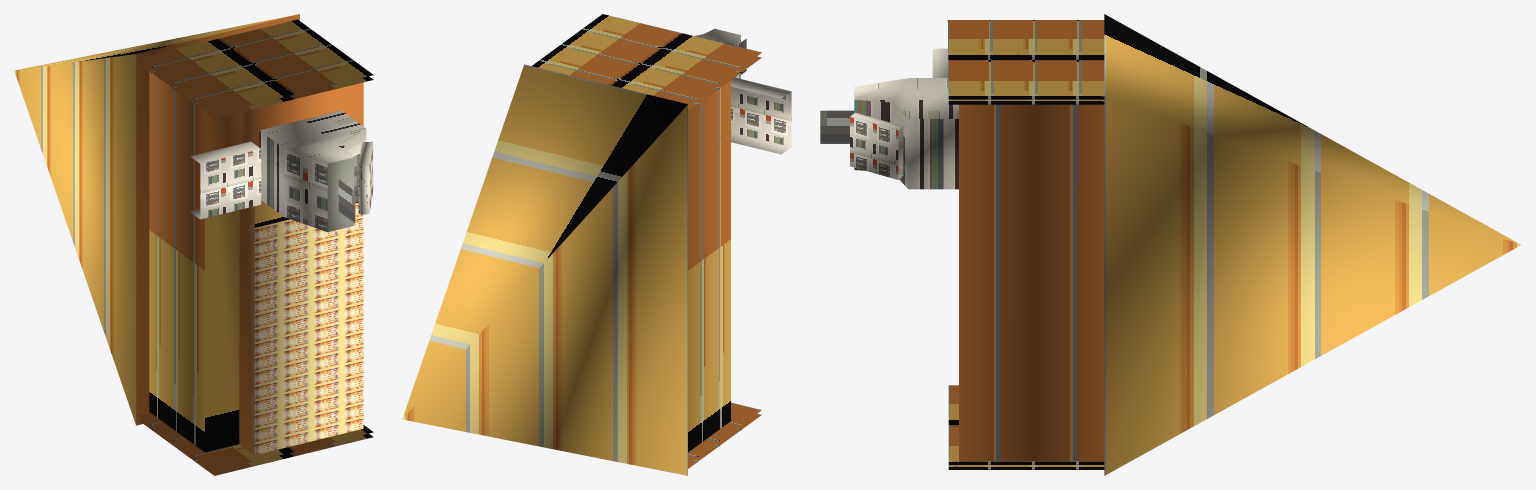
3 views of the same model, side by side, from view 1: azimuth 30°, elevation 25°; view 2: azimuth 150°, elevation 25°; view 3: azimuth 270°, elevation 25° (orthographic). The views are drawn at different scales.
Parts seen in each view (by area): view 1: 3790kg_sh1_13; view 2: 3790kg_sh1_13; view 3: 3790kg_sh1_13.
Boxes of the visible parts, x1=… form: 3790kg_sh1_13: x1=14, y1=14, x2=373, y2=475; 3790kg_sh1_13: x1=402, y1=14, x2=791, y2=475; 3790kg_sh1_13: x1=820, y1=14, x2=1520, y2=475.
Bounding box in the file's own units: 1.01 × 1.95 × 3.26.
Materials: 3 (3 with a texture image).
